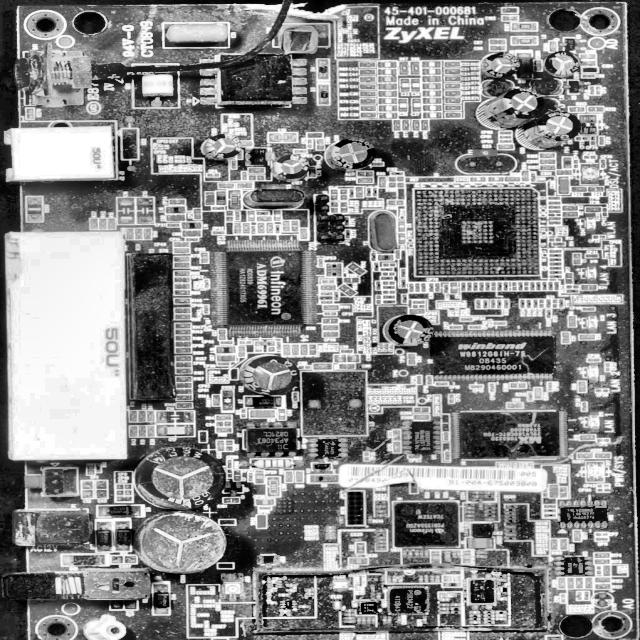PCB: (12, 4, 640, 640)
